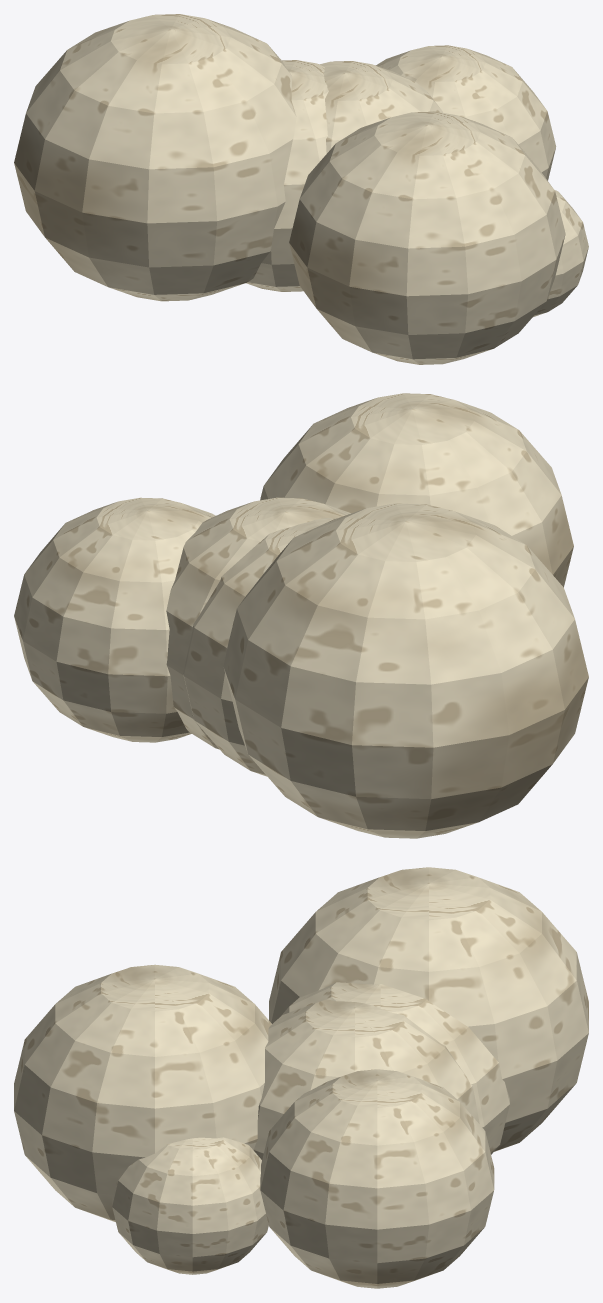
Rendered from puffball_cluster_v1.fbx.
3 renders of one model, top to bottom at view 1: azimuth 30°, elevation 25°; view 2: azimuth 150°, elevation 25°; view 3: azimuth 270°, elevation 25°, orthographic. The views are drawn at different scales.
Visible parts, largest first — view 1: puffball_cluster_v1; view 2: puffball_cluster_v1; view 3: puffball_cluster_v1.
Part boxes in pixels (left/top/right/bottom): puffball_cluster_v1: left=14, top=14, right=588, bottom=364; puffball_cluster_v1: left=14, top=393, right=588, bottom=838; puffball_cluster_v1: left=14, top=867, right=588, bottom=1288.
Bounding box in the file's own units: 21.11 × 10.74 × 20.9.
1 material, 1 textured.
